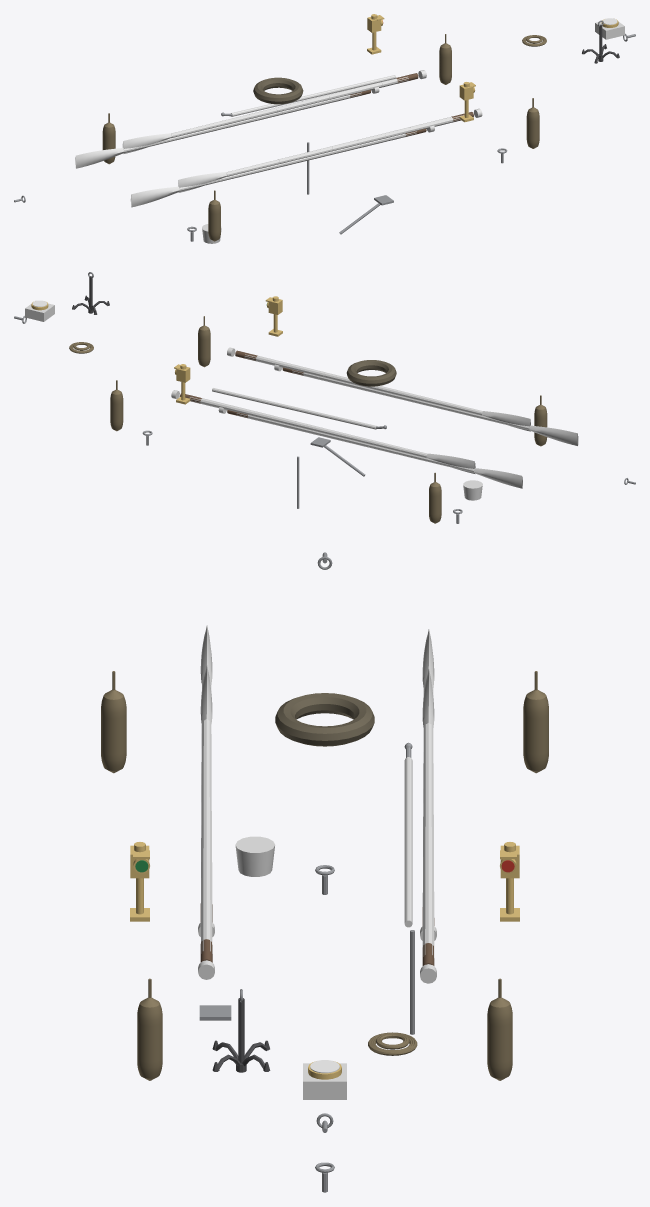
Rendered from Gear_Nav_Safety.fbx.
3 renders of one model, top to bottom at view 1: azimuth 30°, elevation 25°; view 2: azimuth 150°, elevation 25°; view 3: azimuth 270°, elevation 25°, orthographic. The views are drawn at different scales.
Parts seen in each view (by area): view 1: Gear_Nav_Safety; view 2: Gear_Nav_Safety; view 3: Gear_Nav_Safety.
Boxes of the visible parts, x1,y1,x2,y2 form: Gear_Nav_Safety: [14, 14, 635, 243]; Gear_Nav_Safety: [14, 272, 635, 523]; Gear_Nav_Safety: [101, 552, 548, 1192].
Size of the model in its own units: 7.2 by 1.6 by 2.25.
